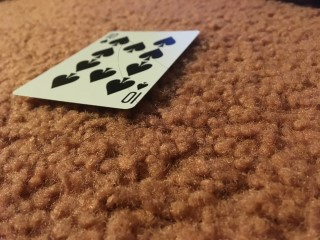TenOfSpades: (13, 30, 201, 108)
